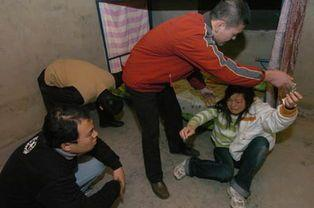Fall-Detected: (167, 70, 306, 205)
